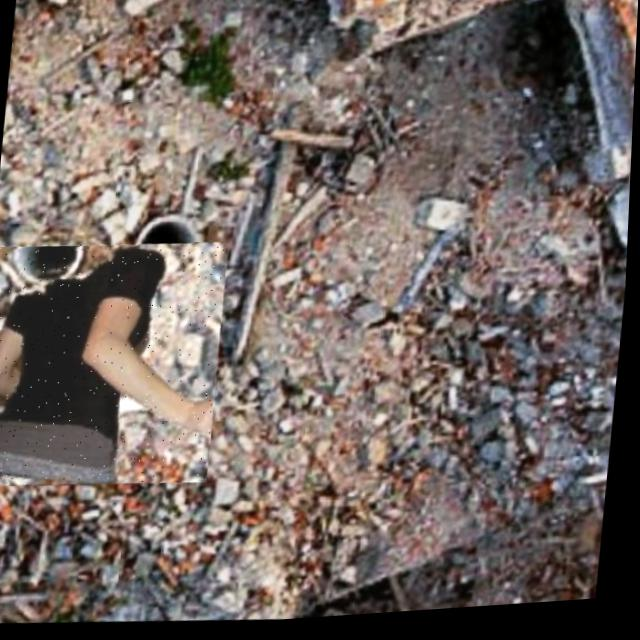Person in Rubble: (0, 233, 232, 497)
